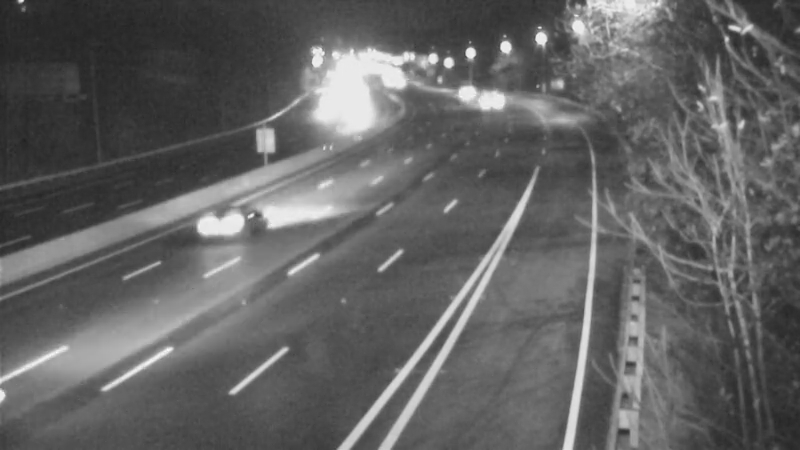vehicle: (179, 186, 259, 266), (441, 65, 491, 115), (467, 74, 517, 124)
